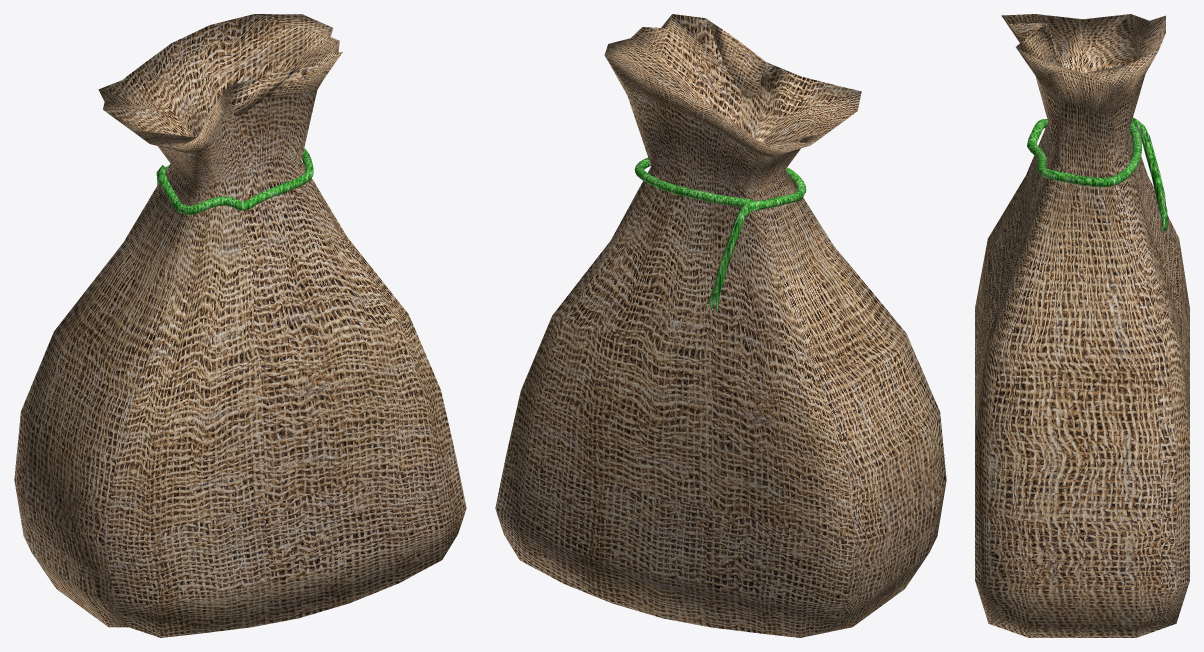
The model's file is sacolaverde.FBX.
3 views of the same model, side by side, from view 1: azimuth 30°, elevation 25°; view 2: azimuth 150°, elevation 25°; view 3: azimuth 270°, elevation 25° (orthographic). The views are drawn at different scales.
Parts seen in each view (by area): view 1: Box001, Line001; view 2: Box001, Line001; view 3: Box001, Line001.
Boxes of the visible parts, x1=… form: Box001: x1=14, y1=14, x2=466, y2=637; Line001: x1=156, y1=148, x2=313, y2=214; Box001: x1=495, y1=14, x2=946, y2=637; Line001: x1=634, y1=157, x2=806, y2=313; Box001: x1=975, y1=14, x2=1189, y2=637; Line001: x1=1027, y1=118, x2=1168, y2=232.
Size of the model in its own units: 56.84 by 78.61 by 27.07.
2 materials, 2 textured.
